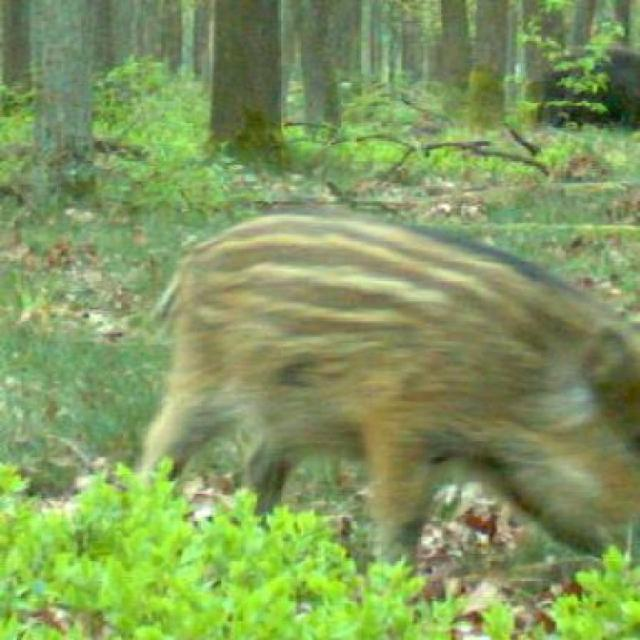WildBoar: (136, 179, 638, 558)
